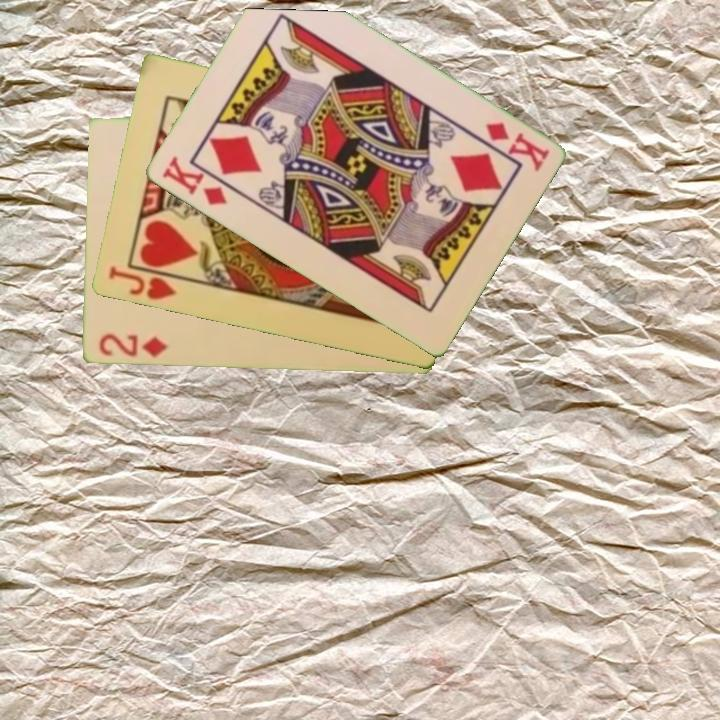2d: (95, 331, 170, 360)
Jh: (104, 263, 180, 303)
Kd: (157, 153, 230, 209), (481, 118, 552, 174)
